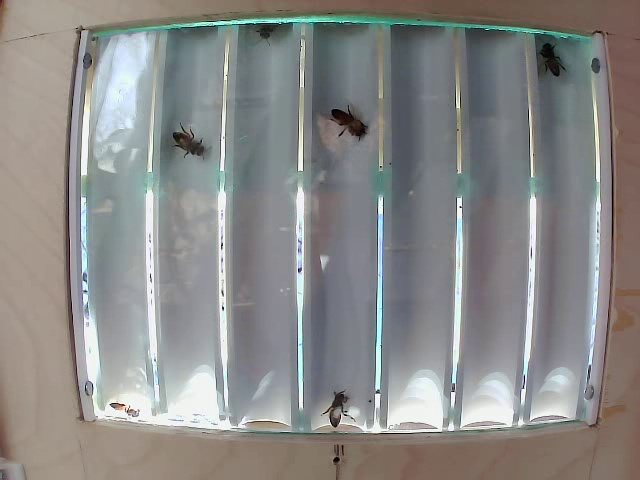bee: (332, 104, 378, 154), (171, 123, 215, 171), (519, 36, 558, 77)
